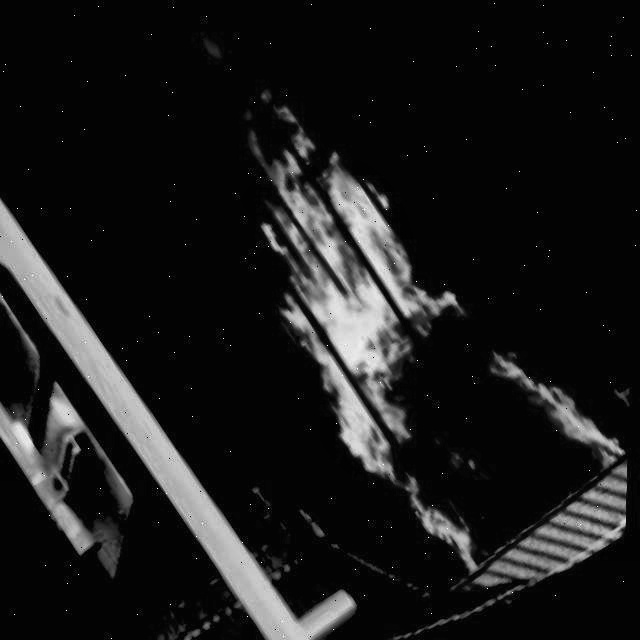Fire: (157, 25, 635, 583)
